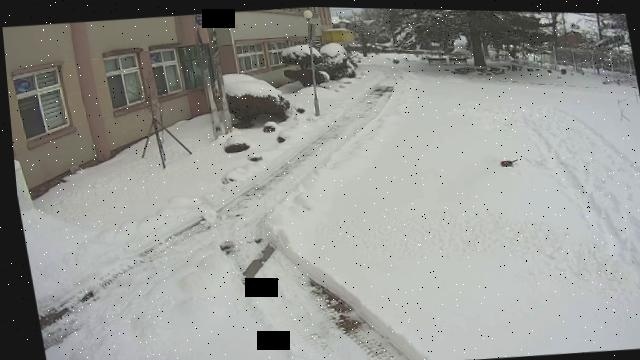fire: (501, 160, 506, 163)
